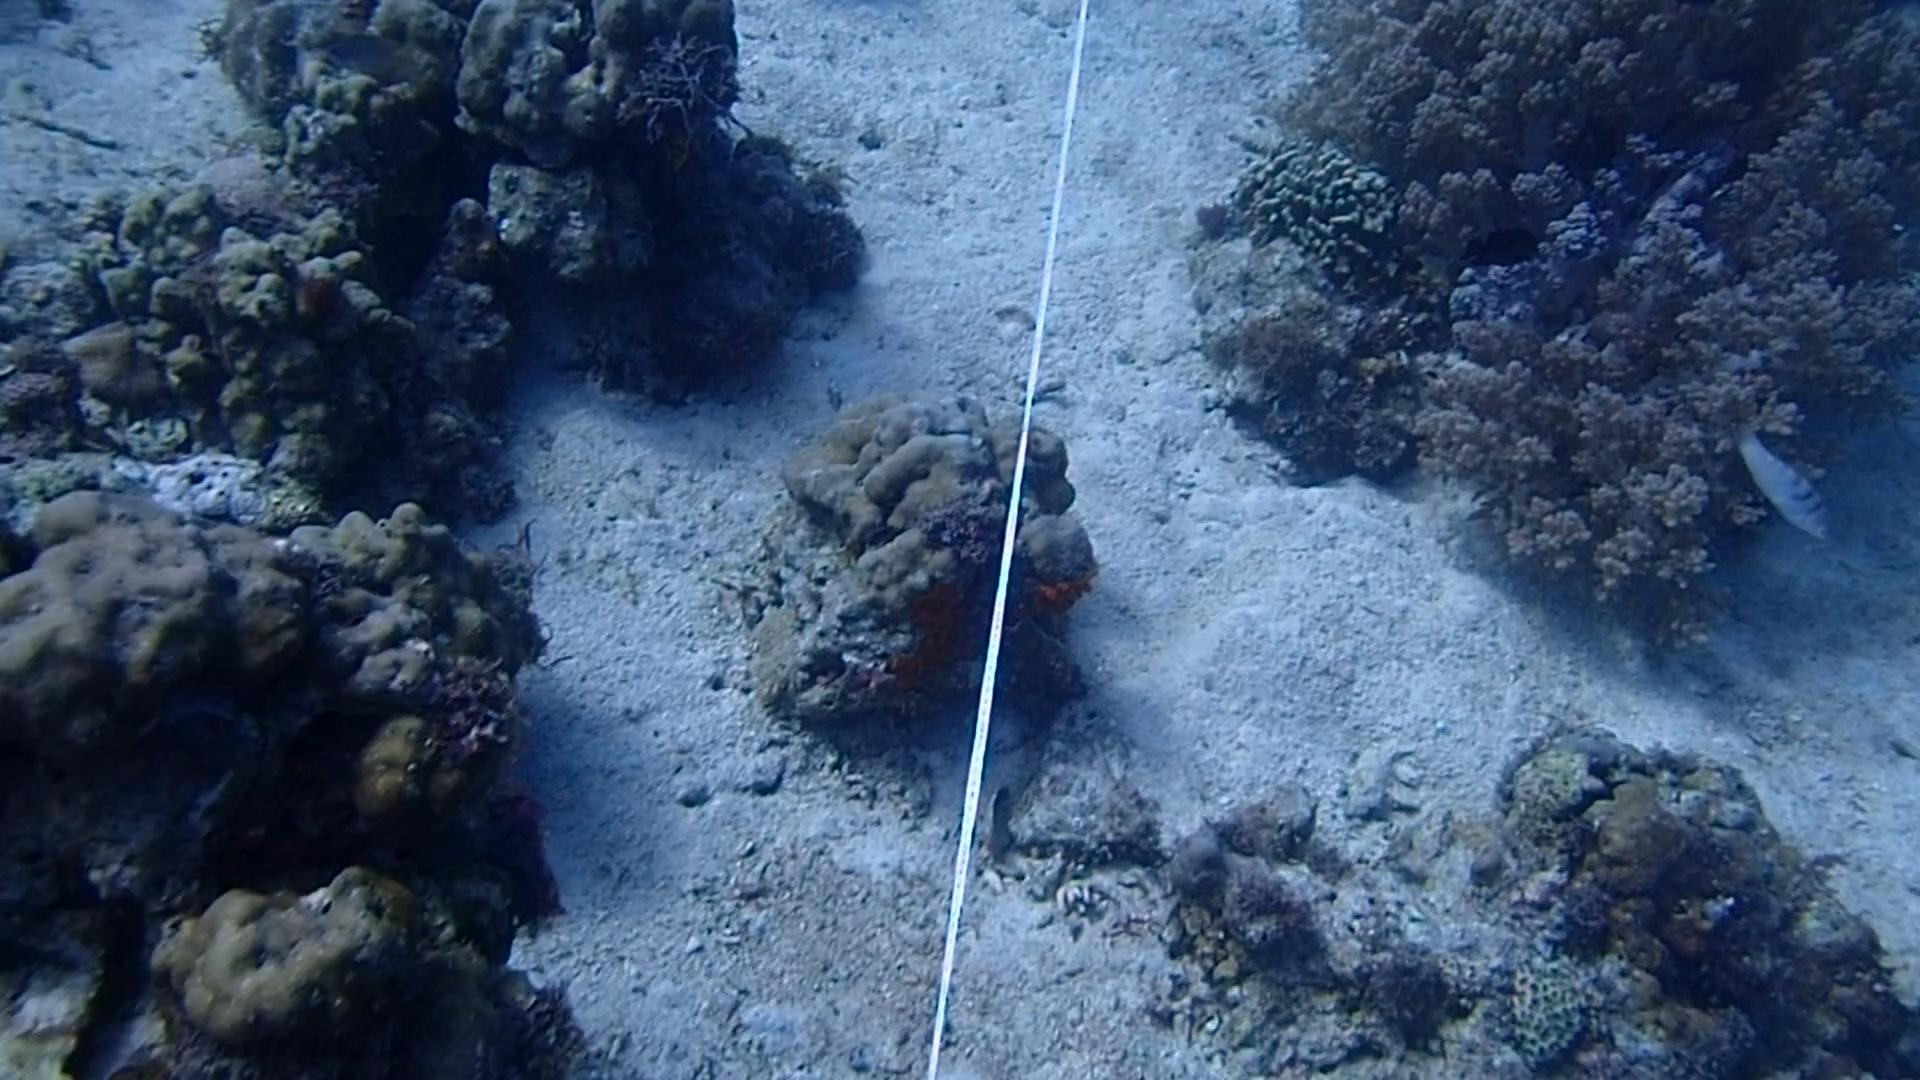Dark Fish: (1466, 212, 1552, 274)
Light Fish w Back Stripes: (1717, 411, 1849, 546)
